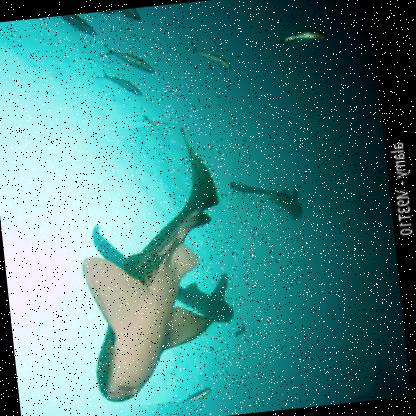zebra_shark: (41, 116, 252, 413)
